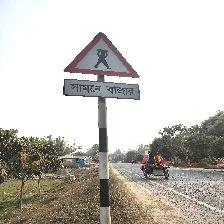Market-in-front: (63, 32, 142, 101)
